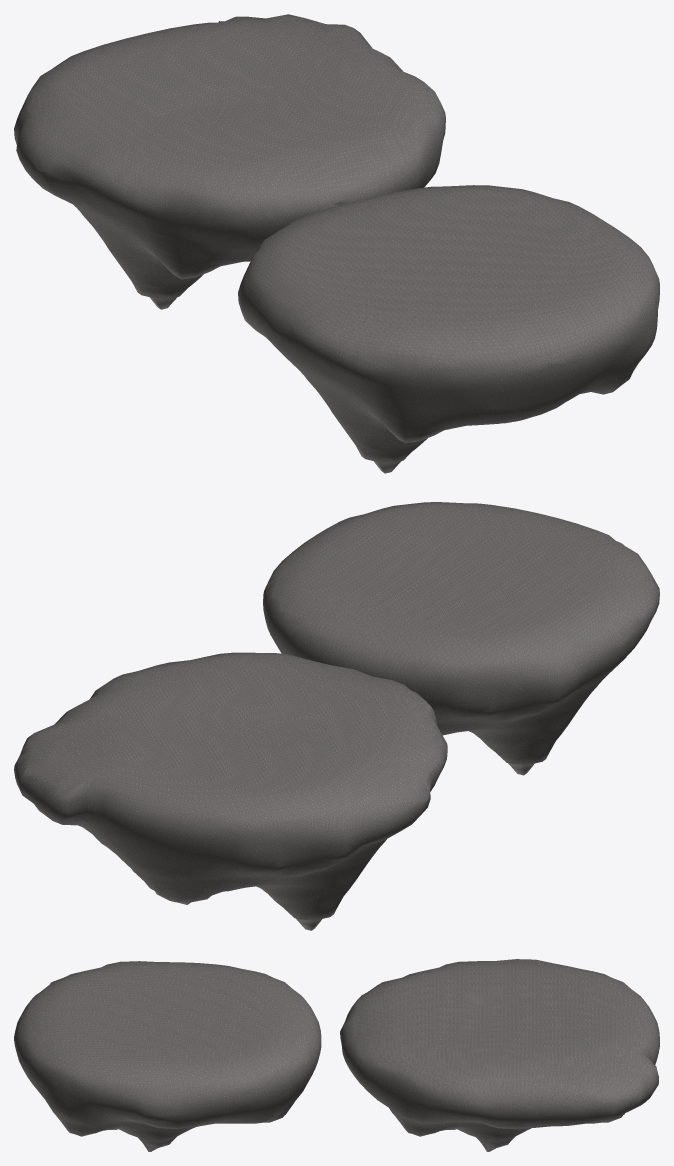
Rendered from level2.gltf.
The picture shows the model from 3 angles, top to bottom: view 1: azimuth 30°, elevation 25°; view 2: azimuth 150°, elevation 25°; view 3: azimuth 270°, elevation 25°; orthographic projection. The views are drawn at different scales.
Parts seen in each view (by area): view 1: Cube.001, Cube.003; view 2: Cube.003, Cube.001; view 3: Cube.003, Cube.001.
Boxes of the visible parts, bbox=[...] form: Cube.001: bbox=[238, 185, 659, 473]; Cube.003: bbox=[14, 14, 445, 309]; Cube.003: bbox=[14, 652, 447, 930]; Cube.001: bbox=[263, 502, 659, 775]; Cube.003: bbox=[340, 959, 659, 1151]; Cube.001: bbox=[14, 961, 321, 1151].
Size of the model in its own units: 75.07 by 37.66 by 148.
Materials: 1 (1 with a texture image).
